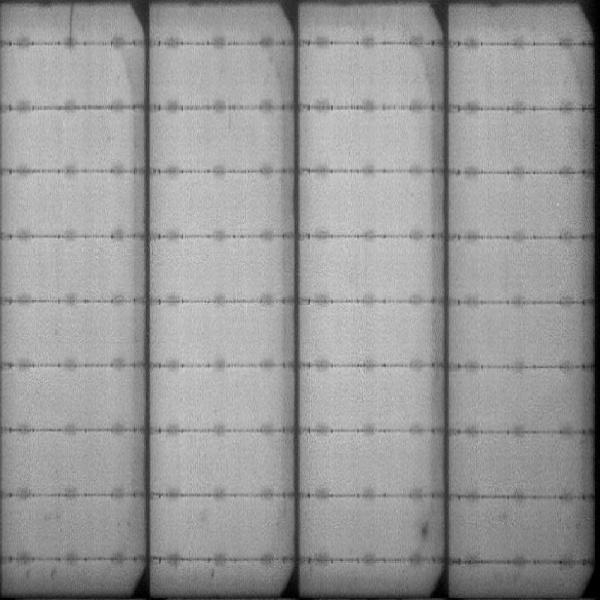scratch: (61, 1, 80, 52)
